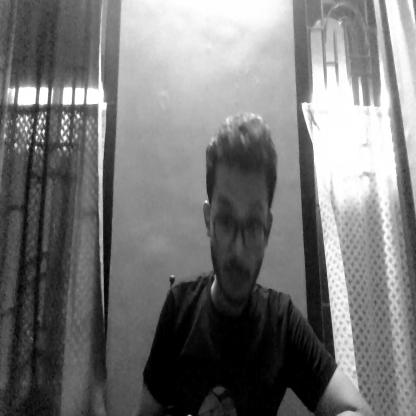Normal: (204, 115, 276, 322)
